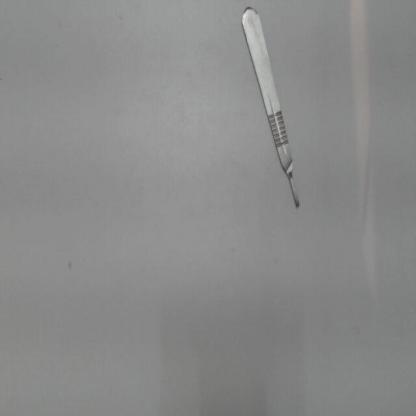No.3 BP Handle: (237, 4, 304, 215)
